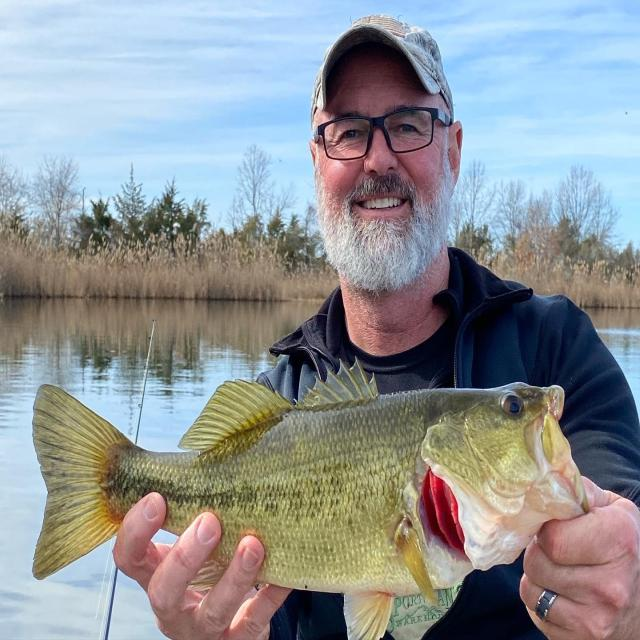Bass - Largemouth: (33, 363, 588, 638)
